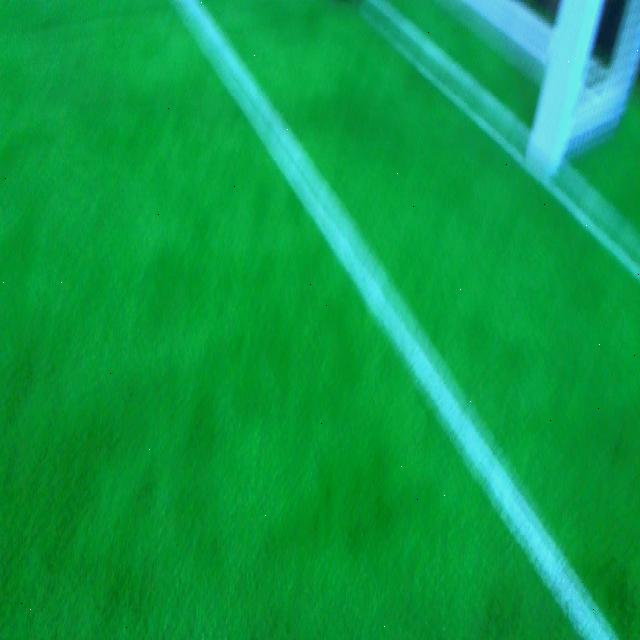goalpost: (528, 0, 600, 181)
